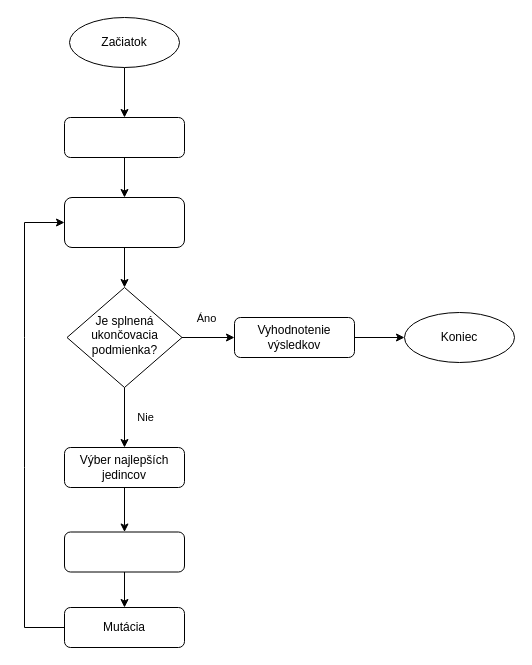
This 532x665 diagram has some shape labels left out. The shapes that lost their labels are listed below. From the top down, each one's box as (x1, y1, x2, y2) in pixels, then its label:
(64, 116, 184, 158): Inicializácia počiatočnej populácie
(64, 196, 184, 248): Ohodnotenie jedincov pomocou fitness funkcie
(64, 531, 184, 572): Kríženie
